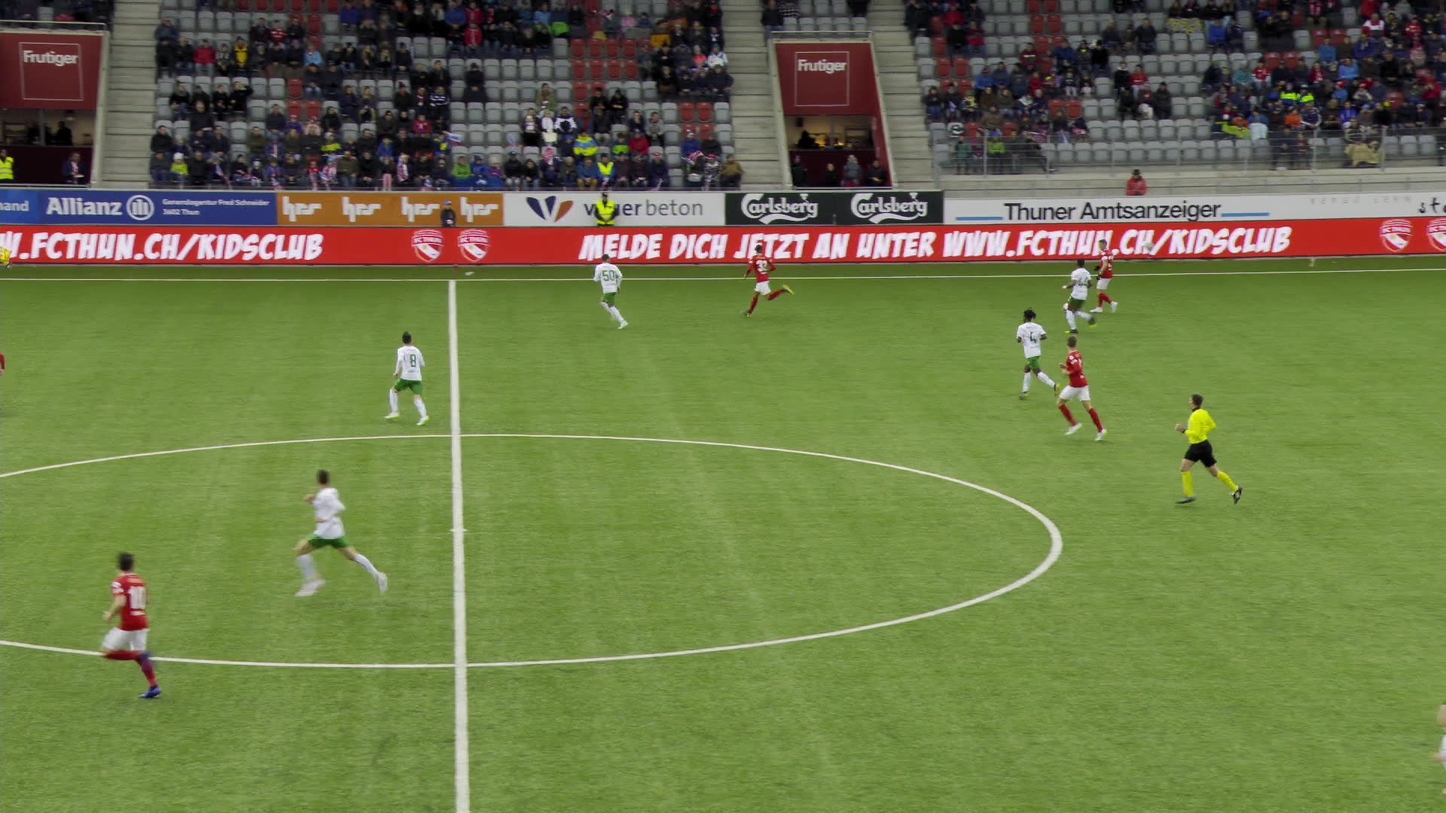ball: (1062, 300, 1076, 313)
player: (96, 548, 199, 696), (301, 466, 391, 602), (1053, 336, 1112, 438), (387, 326, 433, 423), (1011, 309, 1057, 401), (1055, 253, 1104, 332), (592, 253, 637, 327), (746, 243, 789, 318), (1092, 237, 1121, 312), (0, 342, 8, 373)
referee: (1173, 394, 1237, 507)
